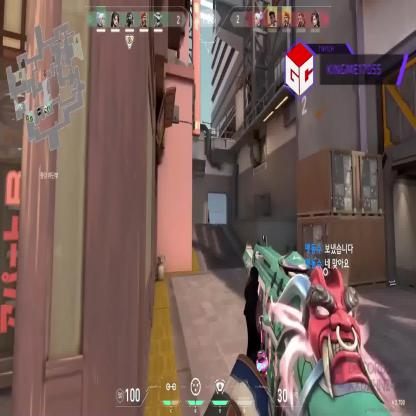enemy: (205, 206, 211, 224)
enemy_head: (207, 206, 210, 210)
